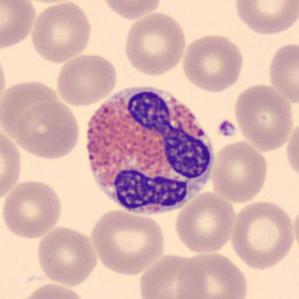Eosinophil: (78, 77, 220, 221)
Platelets: (216, 119, 238, 139)
RBC: (87, 208, 167, 276), (228, 199, 296, 271), (122, 9, 188, 76), (232, 82, 295, 152), (10, 100, 82, 160), (173, 190, 237, 255), (0, 177, 65, 240), (208, 138, 270, 204), (28, 1, 94, 63), (35, 224, 99, 287), (180, 32, 246, 93), (4, 82, 64, 146), (174, 249, 250, 299), (54, 52, 119, 107), (136, 251, 207, 299), (231, 0, 298, 36), (266, 40, 299, 106), (0, 0, 37, 51), (0, 125, 23, 203), (96, 0, 164, 21), (18, 281, 88, 299), (284, 118, 299, 182), (0, 47, 8, 112), (292, 202, 299, 260)
